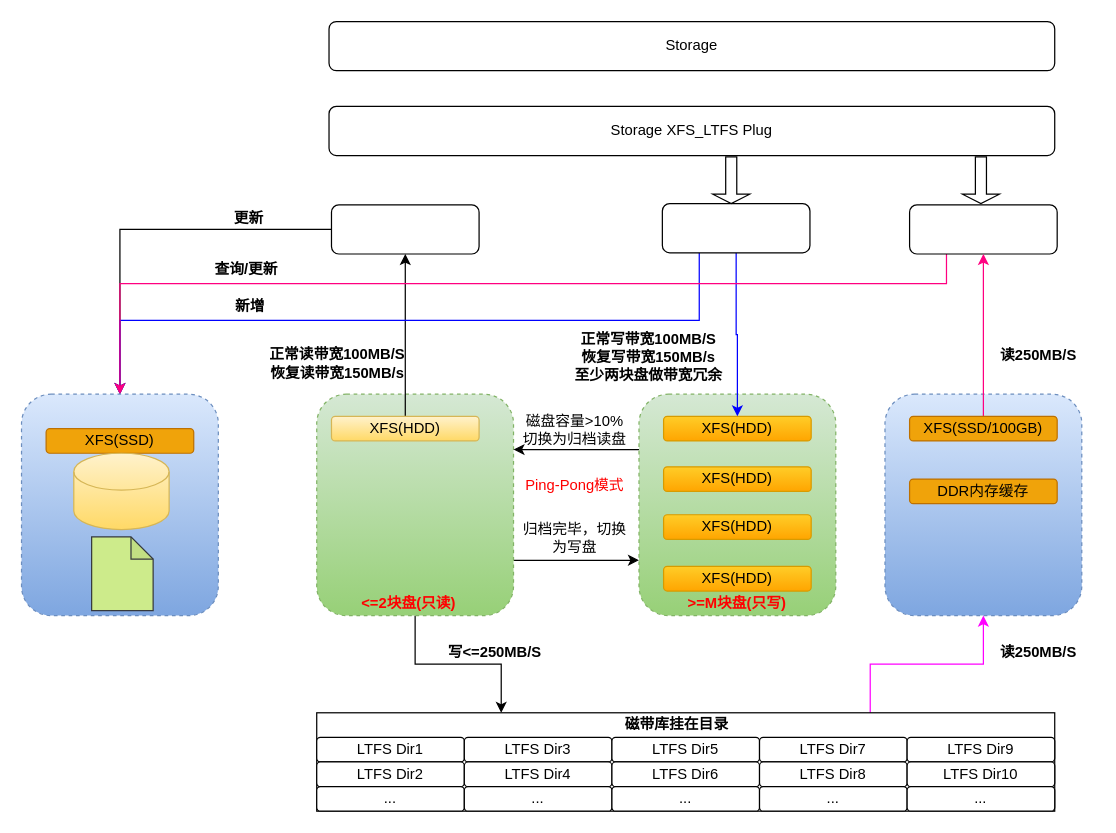
The diagram is 1116 pixels wide and 833 high, and some of its shapes have lost their labels. Here are the shapes that lost their labels. From the top down, the centre of each, then its label:
At pixel 404 229: "归档任务线程".
At pixel 735 227: "录像写".
At pixel 982 229: "录像读".
At pixel 121 491: "检索数据库".
At pixel 121 573: "帧索引".
